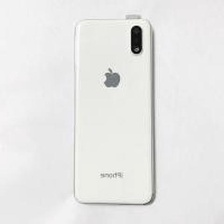phone: (69, 13, 160, 208)
